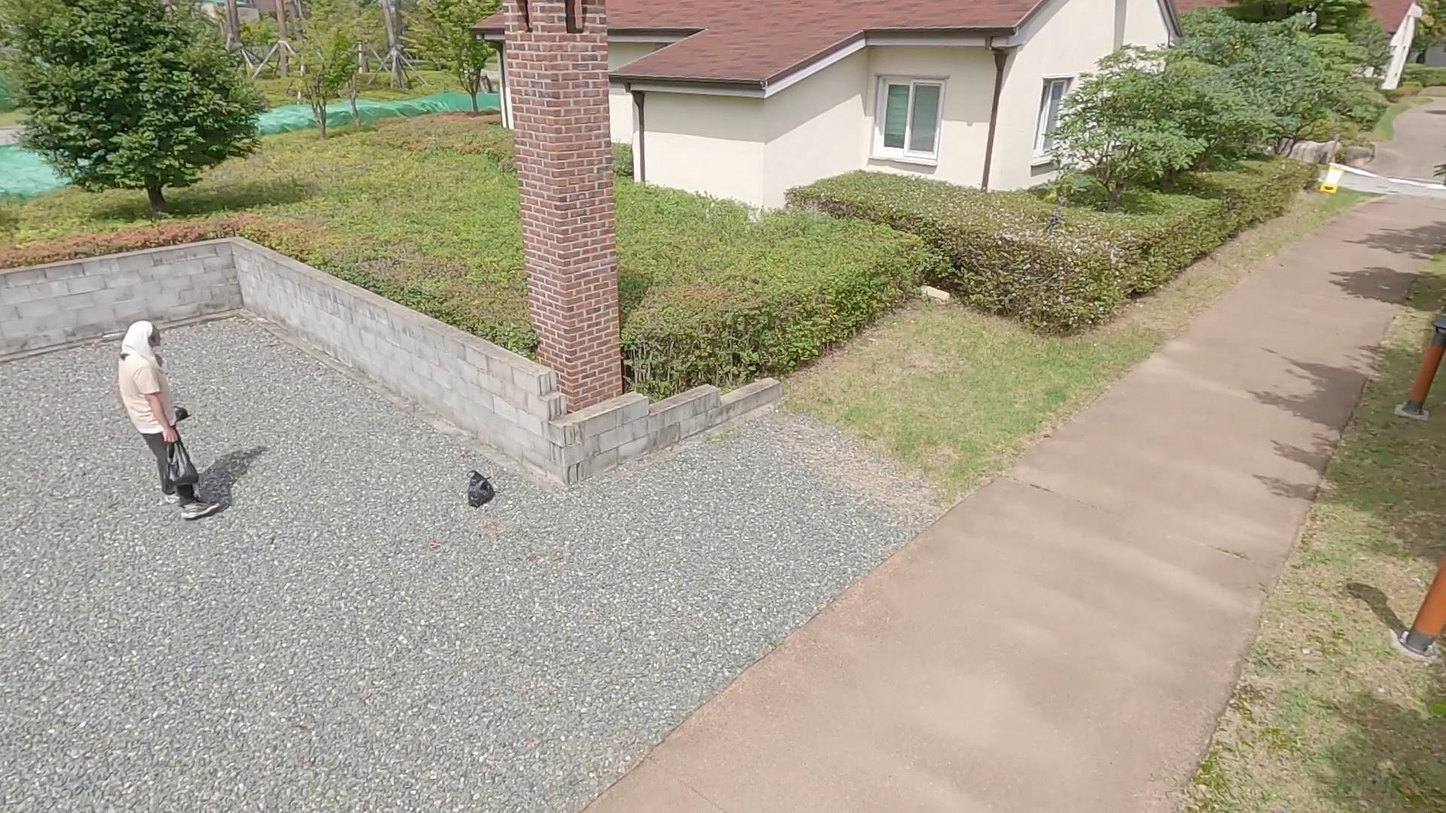person: (115, 317, 226, 523)
trash: (159, 428, 206, 496), (458, 471, 498, 509)
